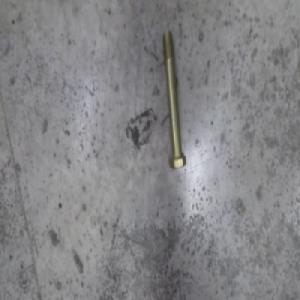Bolt: (161, 33, 187, 167)
